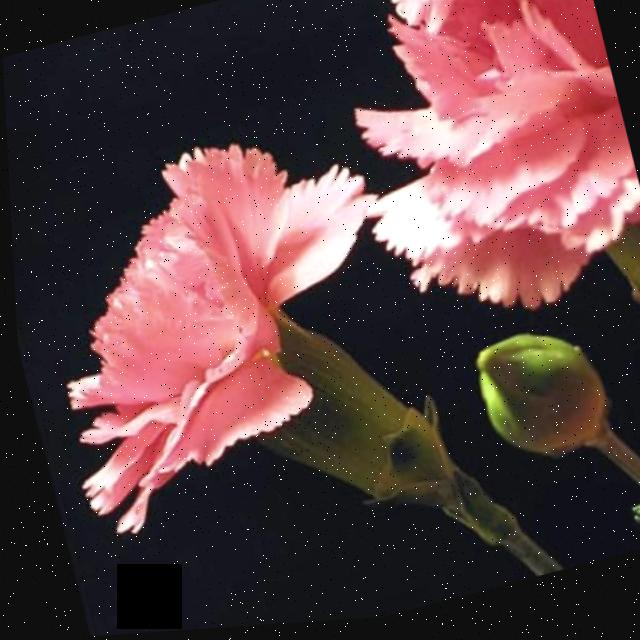carnation: (9, 131, 418, 615)
